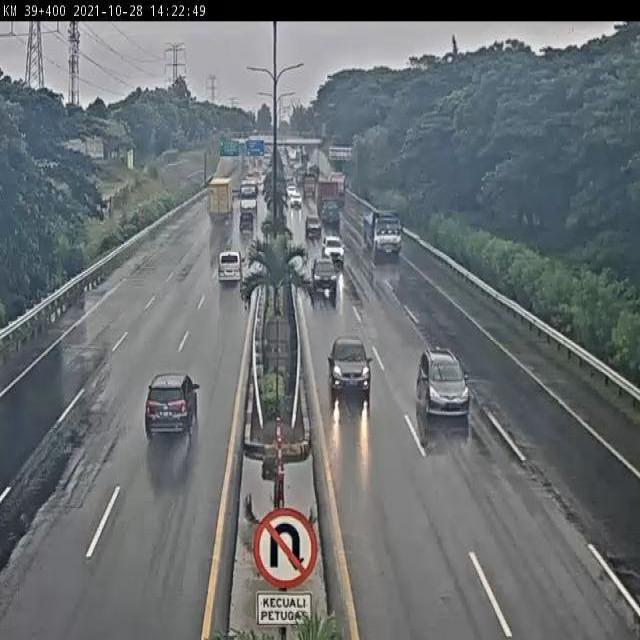car: (144, 371, 202, 440)
truck-l-: (364, 208, 404, 260)
